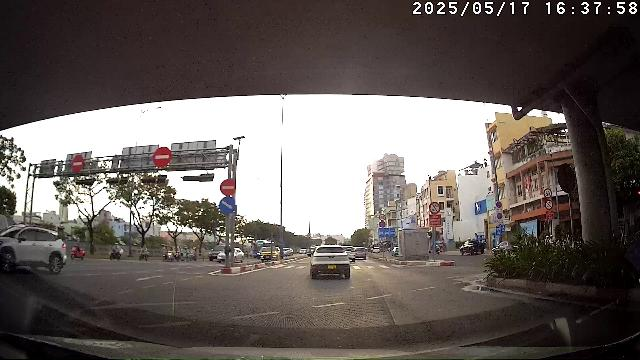102-cam-di-nguoc-chieu: (152, 146, 172, 168), (220, 178, 236, 196), (71, 155, 84, 173)
127-toc-do-toi-da-50: (543, 188, 552, 199)
302a-huong-phai-di-vong-chuong-ngai-vat-1: (219, 197, 236, 214)
